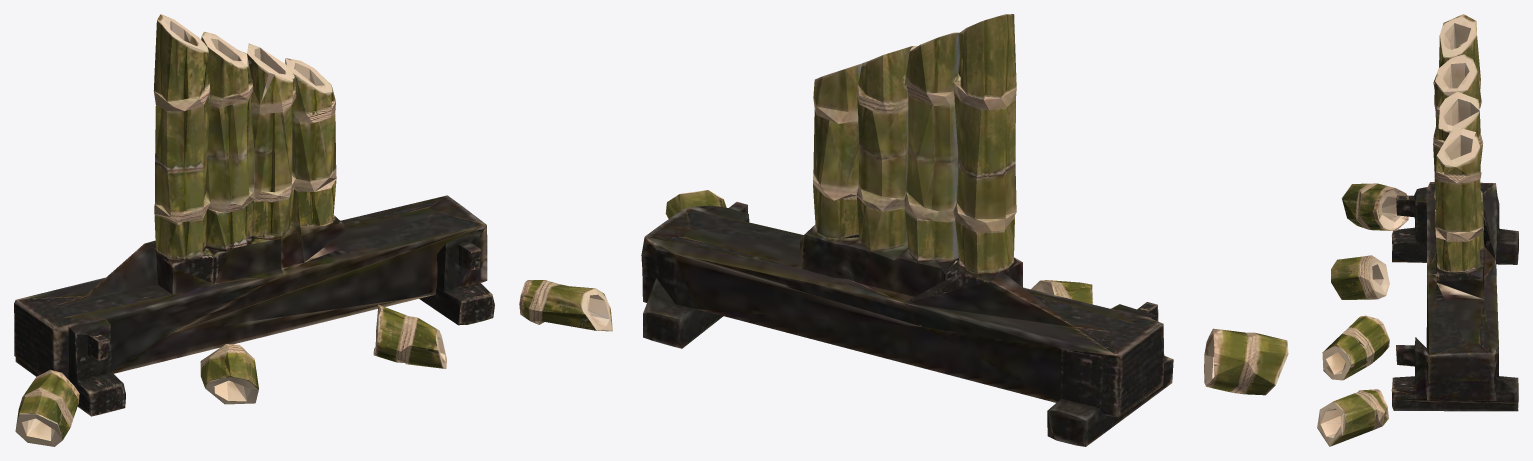
Rendered from targets-mobile.glb.
The picture shows the model from 3 angles, left to right: view 1: azimuth 30°, elevation 25°; view 2: azimuth 150°, elevation 25°; view 3: azimuth 270°, elevation 25°; orthographic projection. The views are drawn at different scales.
Visible parts, largest first — view 1: output_unwrapped; view 2: output_unwrapped; view 3: output_unwrapped.
Boxes of the visible parts, bbox=[...] form: output_unwrapped: bbox=[14, 14, 612, 446]; output_unwrapped: bbox=[641, 14, 1288, 446]; output_unwrapped: bbox=[1317, 14, 1518, 446].
Size of the model in its own units: 2.02 by 1.15 by 0.7446.
1 material, 1 textured.
